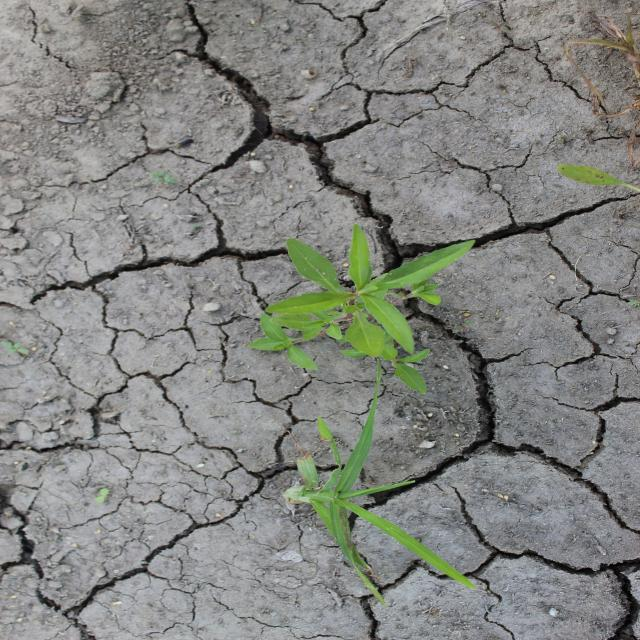Eclipta: (245, 222, 477, 396)
Goosegrass: (280, 355, 480, 605)
